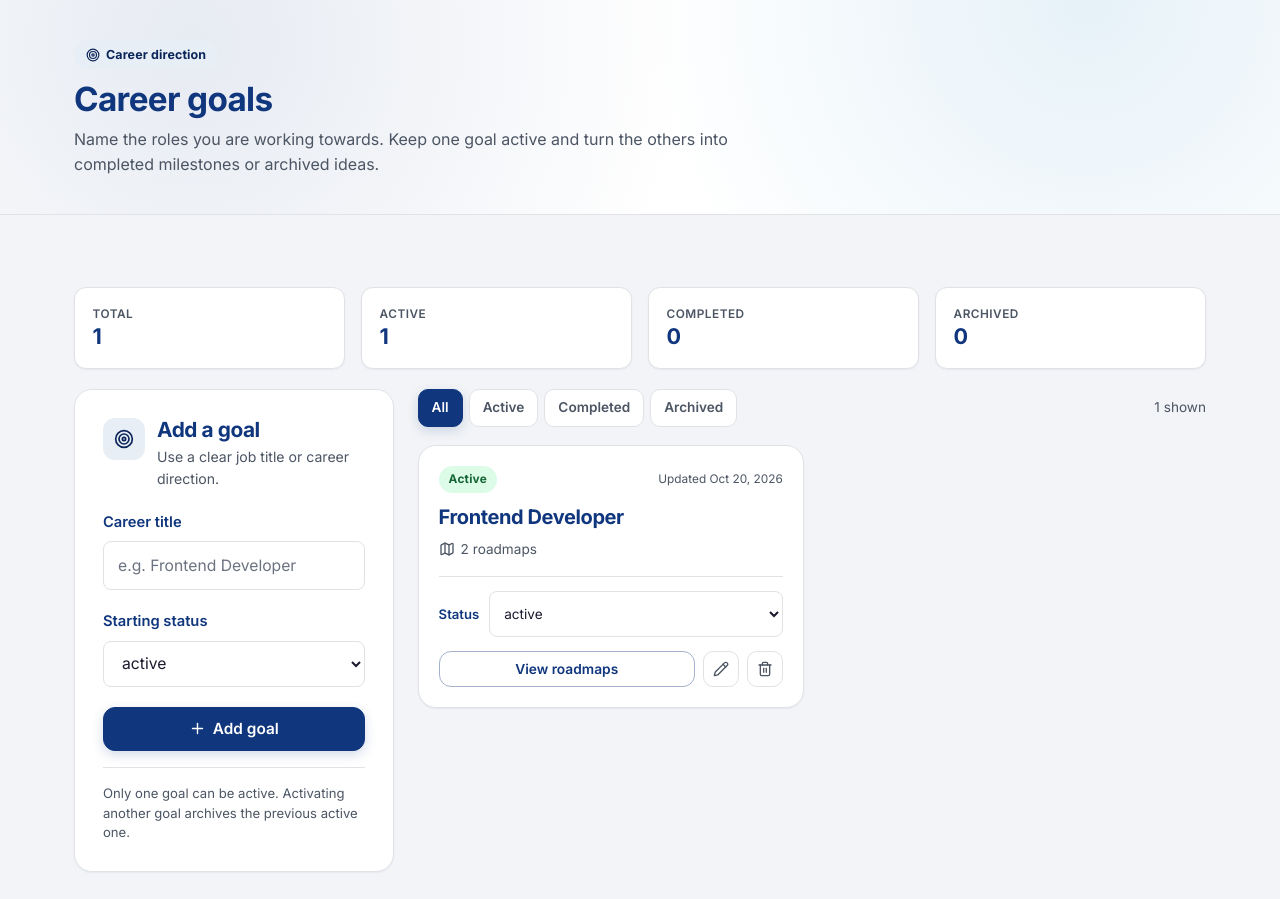
Test case: creates a new career goal
Expected: the heading "Frontend Developer" is shown, [439,504,624,528]
Step 1. Type "Data Analyst" into the field labelled "Career title" → (234, 566), box [103,541,365,590]
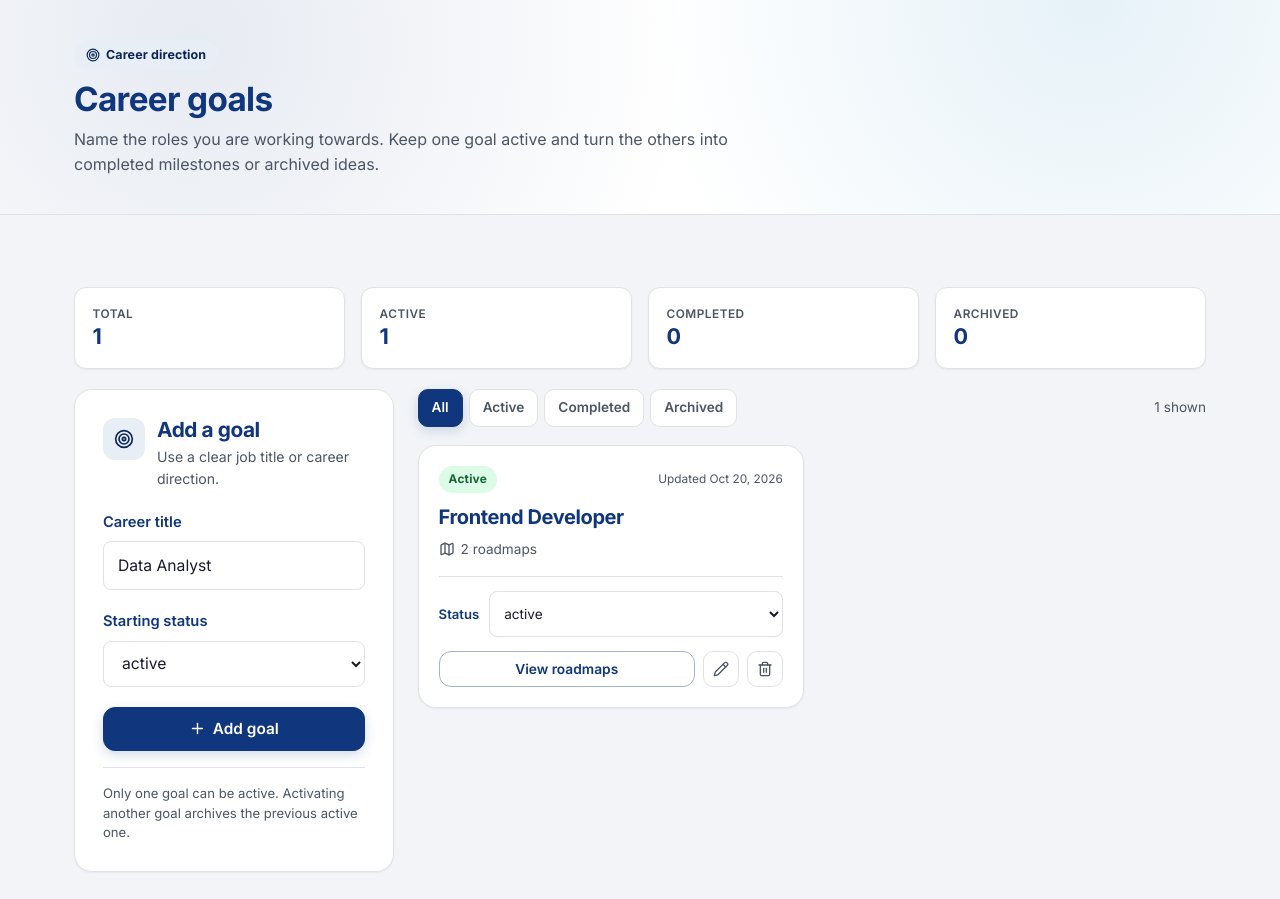
Step 2. Click the button "Add goal" → (234, 729), box [103,707,365,751]
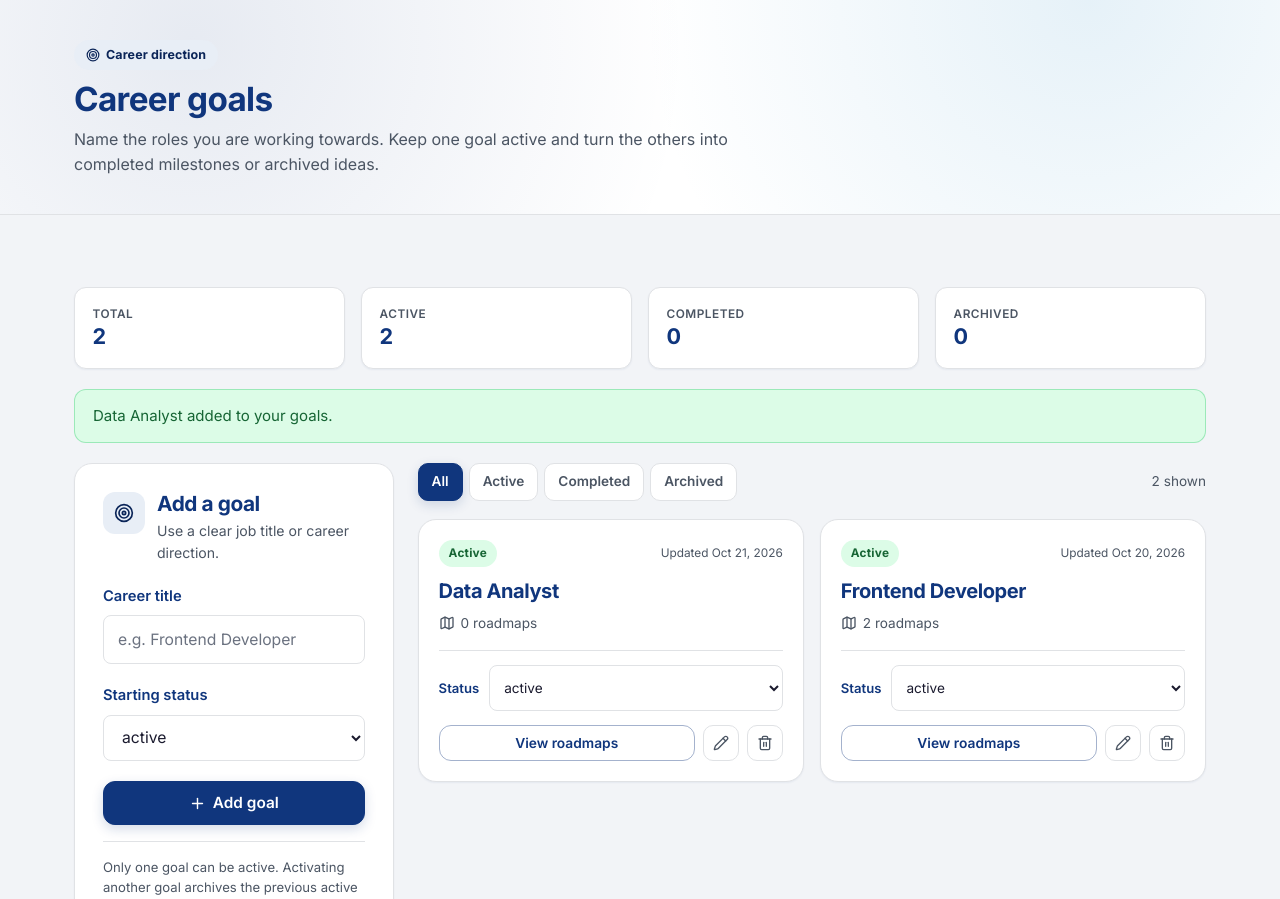
Now the text "Data Analyst added to your goals." is shown, box [74,389,1206,443]
Now the heading "Data Analyst" is shown, box [439,579,559,603]
